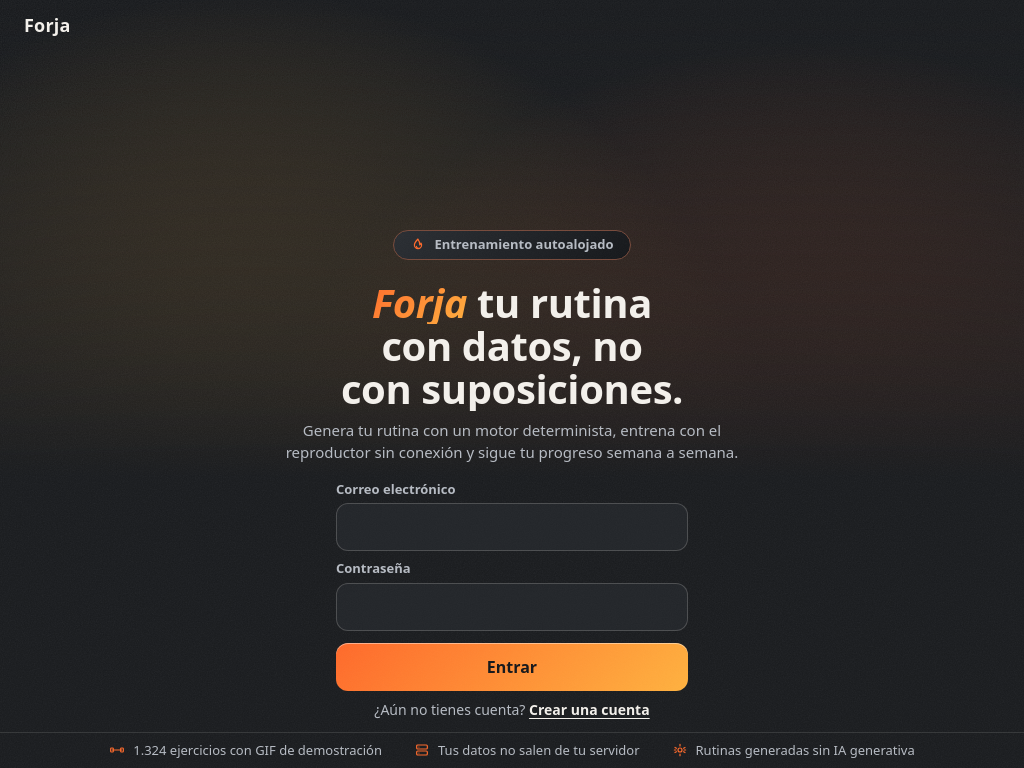
Test case: guarda de sesión › sin sesión redirige a /login y permite iniciar sesión
The image size is (1024, 768).
Type "a@x.com" into the field labelled "Correo electrónico" at (512, 527), box [336,503,688,551]
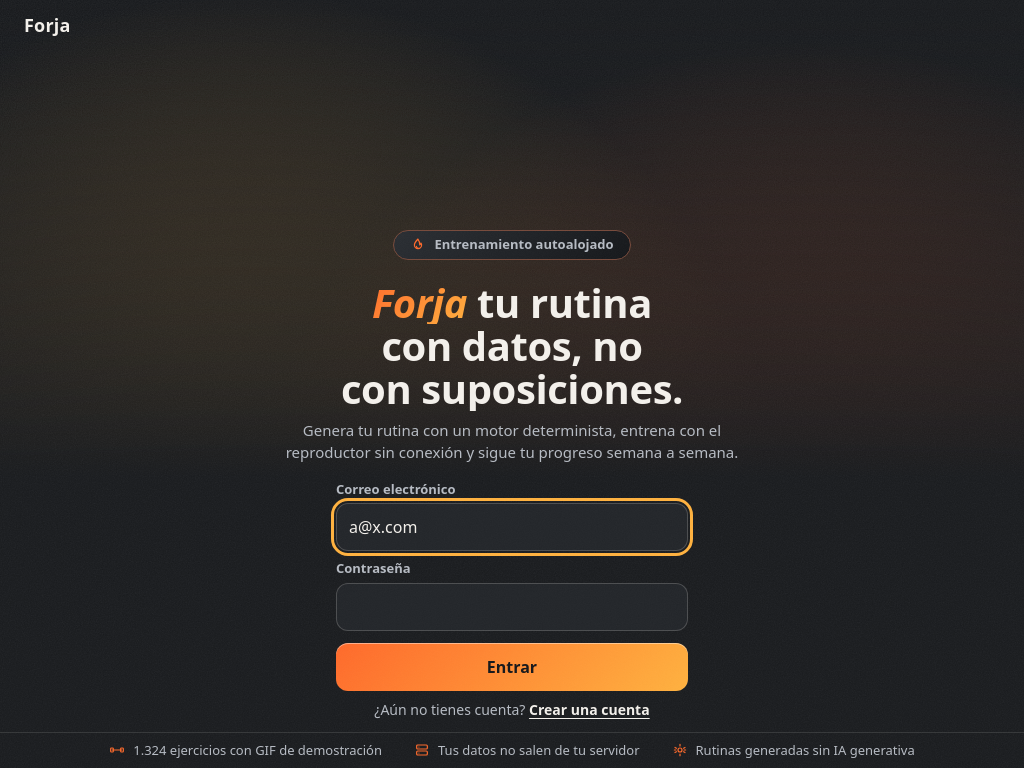
Type "mala" into the password field labelled "Contraseña" at (512, 606), box [336,582,688,630]
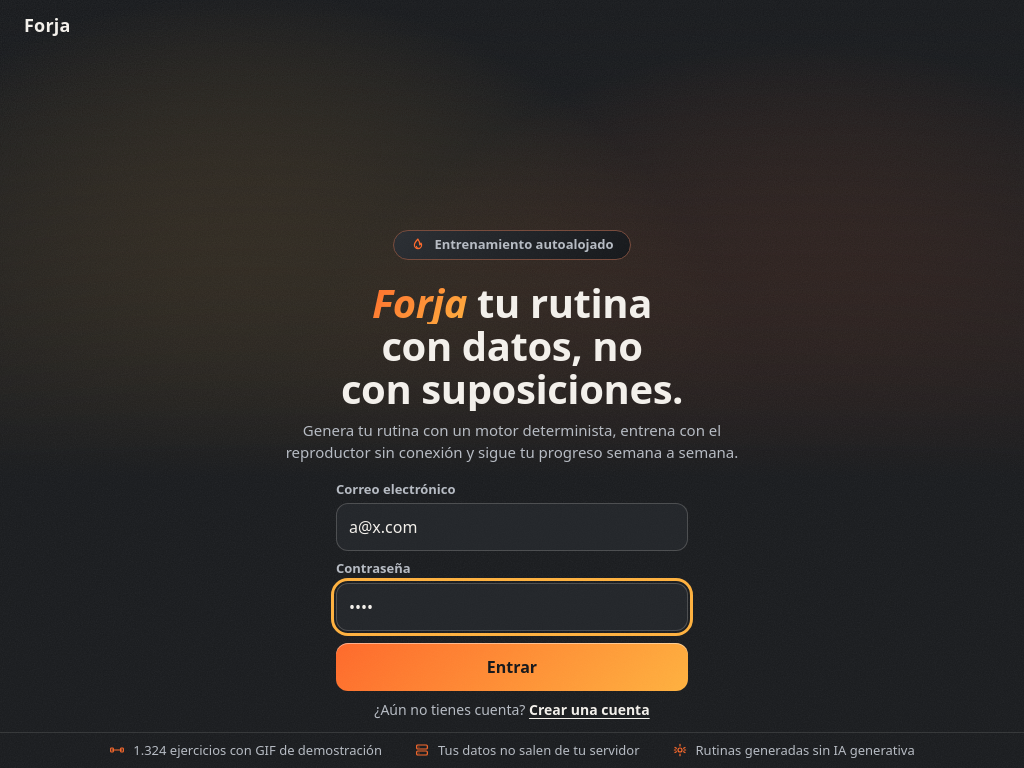
Click the button "Entrar" at (512, 666), box [336,642,688,690]
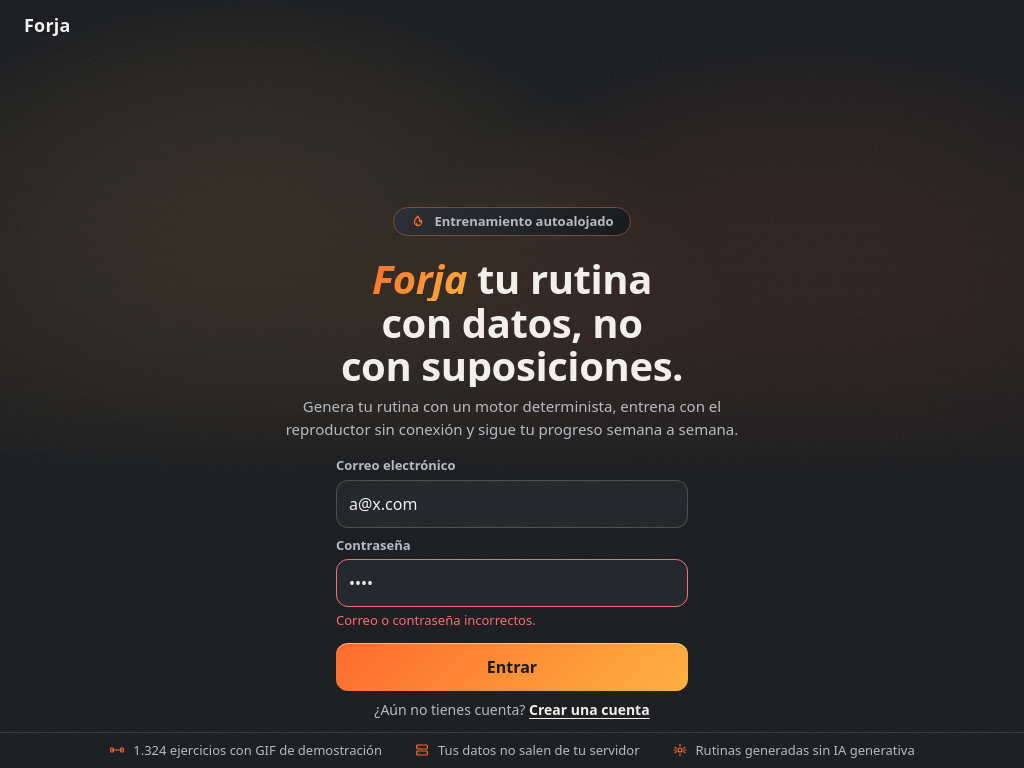
Check: the text "Correo o contraseña incorrectos." is shown, box [336,611,536,629]
Click the button "Entrar" at (512, 666), box [336,642,688,690]
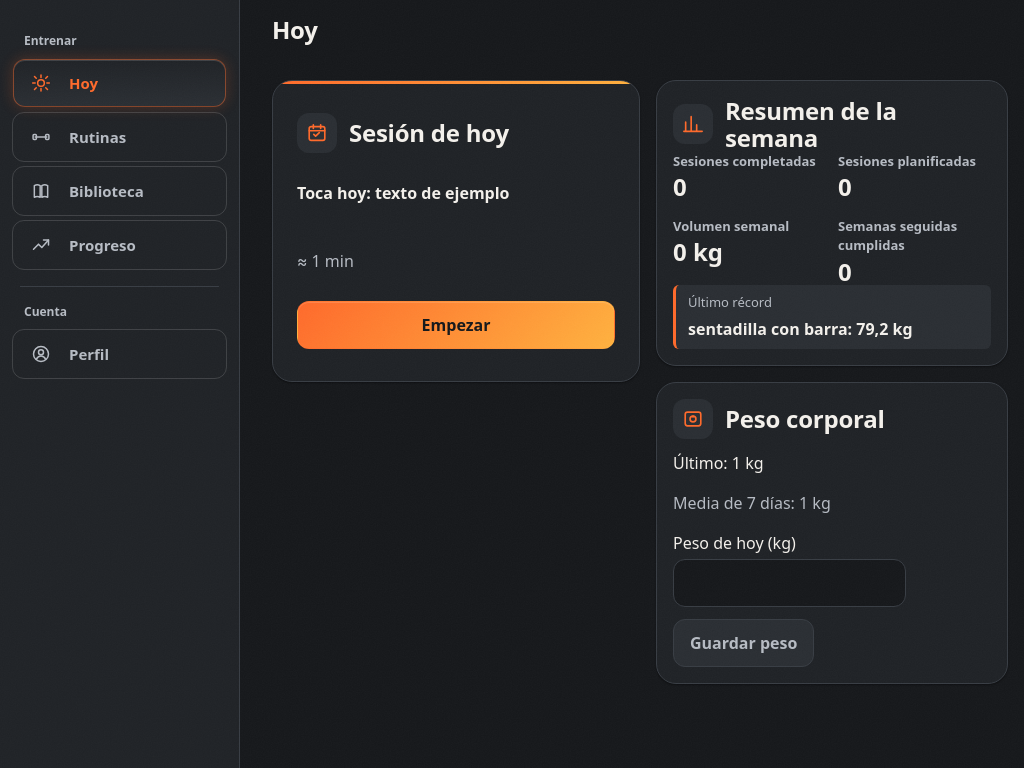
Check: the navigation bar named "Forja" is shown, box [0,0,240,767]
